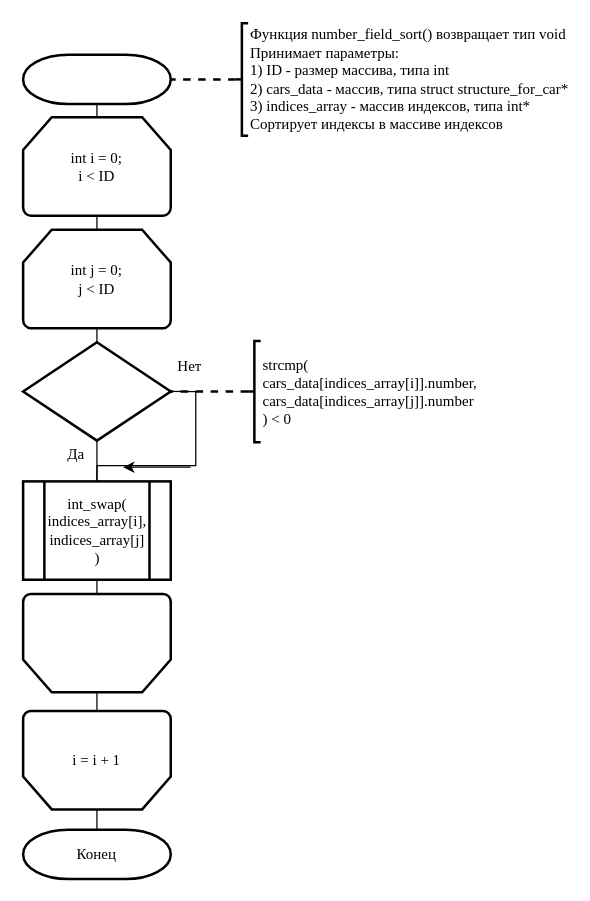
The diagram is 590 pixels wide and 901 high, and some of its shapes have lost their labels. Here are the shapes that lost their labels. From the top down, the box of each, then its label:
(21, 53, 171, 105): void number _field_sort
(21, 592, 171, 693): j = j + 1
